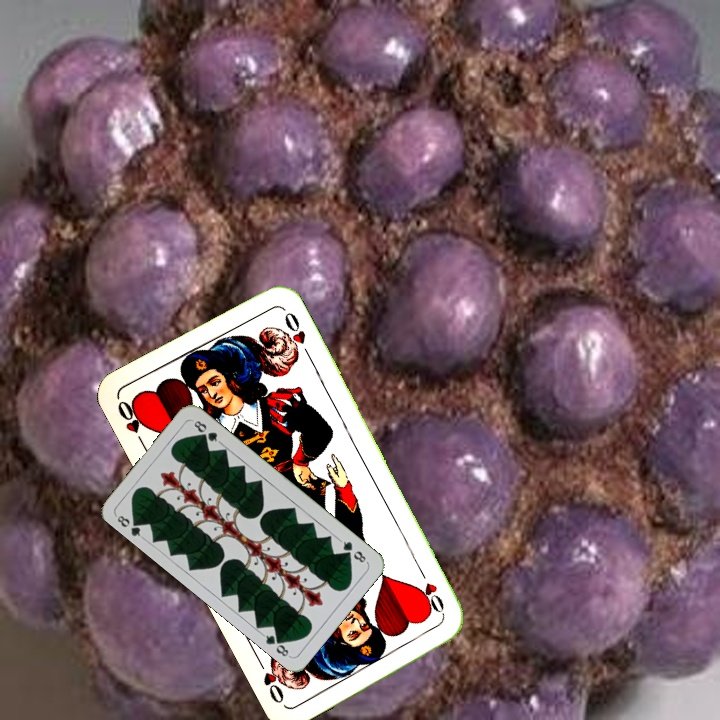G8: (335, 536, 370, 566), (112, 511, 146, 541)
HO: (113, 395, 151, 450), (414, 564, 448, 619)
